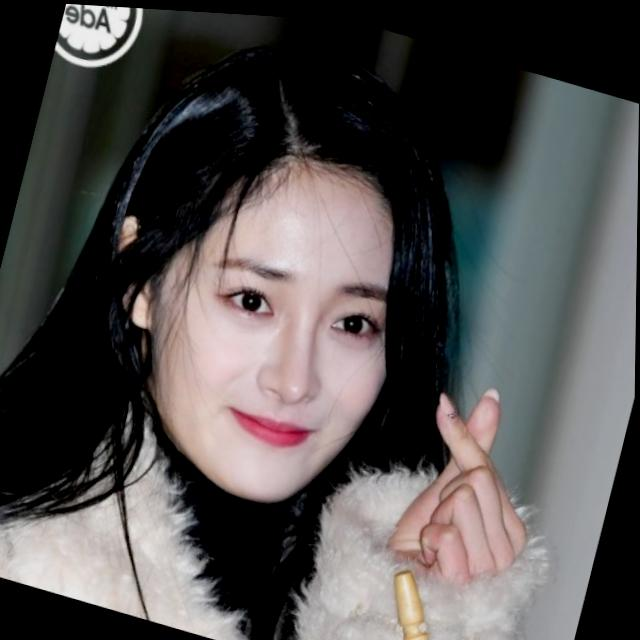face: (114, 124, 437, 531)
